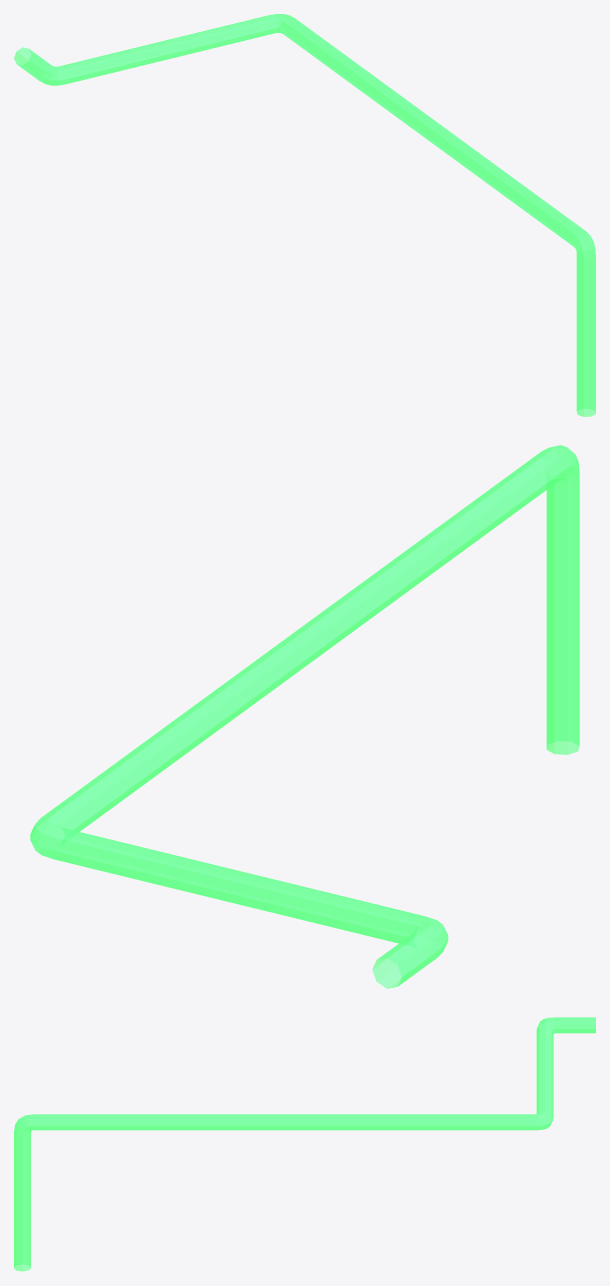
Rendered from greenTube.fbx.
3 views of the same model, one above another, from view 1: azimuth 30°, elevation 25°; view 2: azimuth 150°, elevation 25°; view 3: azimuth 270°, elevation 25° (orthographic). The views are drawn at different scales.
Parts seen in each view (by area): view 1: greenTube; view 2: greenTube; view 3: greenTube.
Part boxes in pixels (<box>): greenTube: <box>14,14,595,416</box>; greenTube: <box>30,445,579,988</box>; greenTube: <box>14,1017,595,1271</box>.
Bounding box in the file's own units: 2884 × 1981 × 6809.
